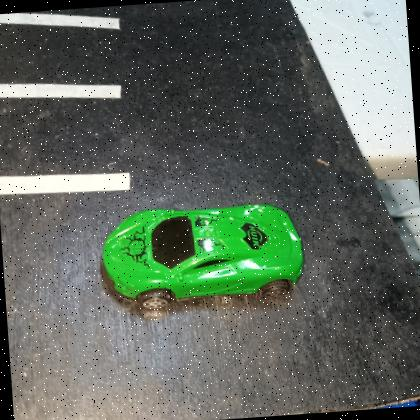Car: (100, 204, 305, 304)
